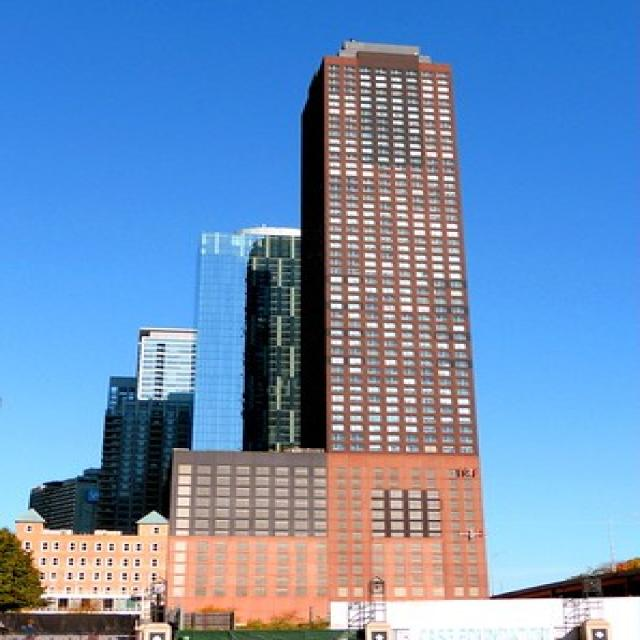building: (300, 32, 490, 598)
